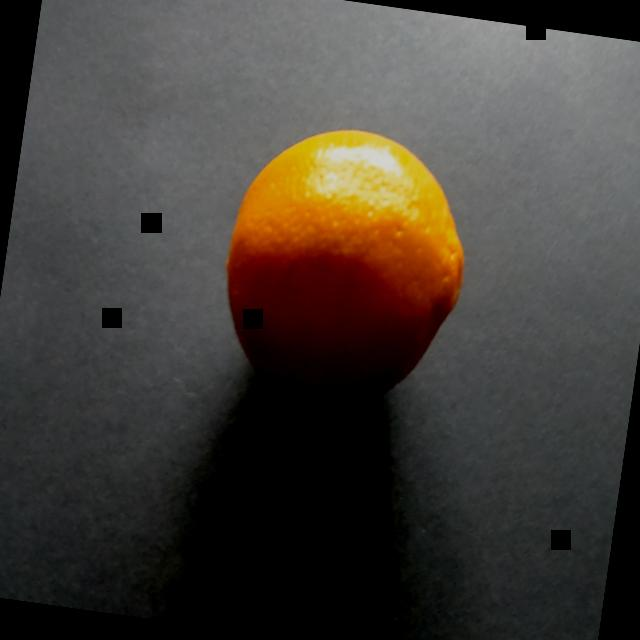Lemon: (180, 76, 511, 456)
